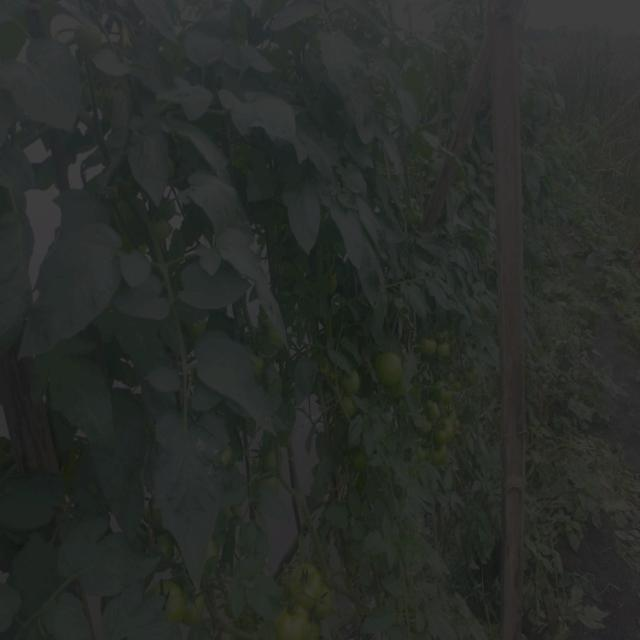tomato: (274, 594, 322, 640), (286, 562, 332, 605), (371, 347, 407, 393), (160, 579, 194, 620), (184, 584, 207, 622), (259, 447, 286, 477), (78, 21, 104, 47), (423, 334, 448, 361), (351, 451, 375, 477), (339, 394, 355, 428), (433, 415, 454, 438), (433, 444, 448, 470), (430, 403, 448, 418), (344, 369, 358, 388)
